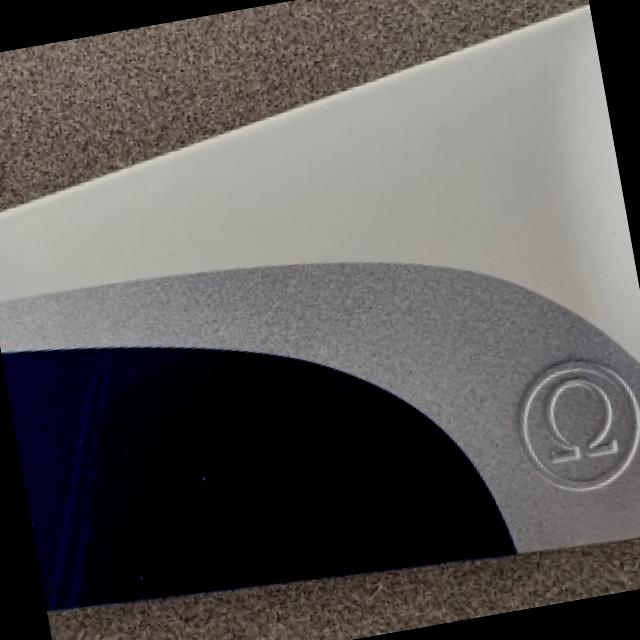healthy: (0, 6, 640, 607)
